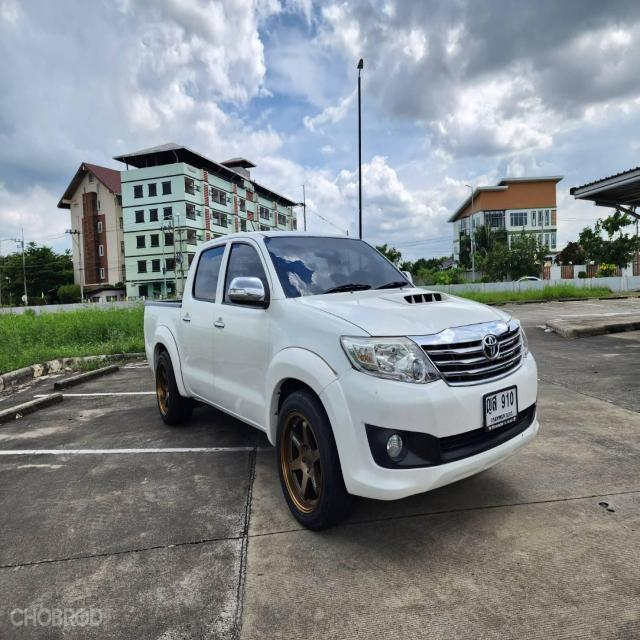license_plate: (482, 383, 520, 434)
